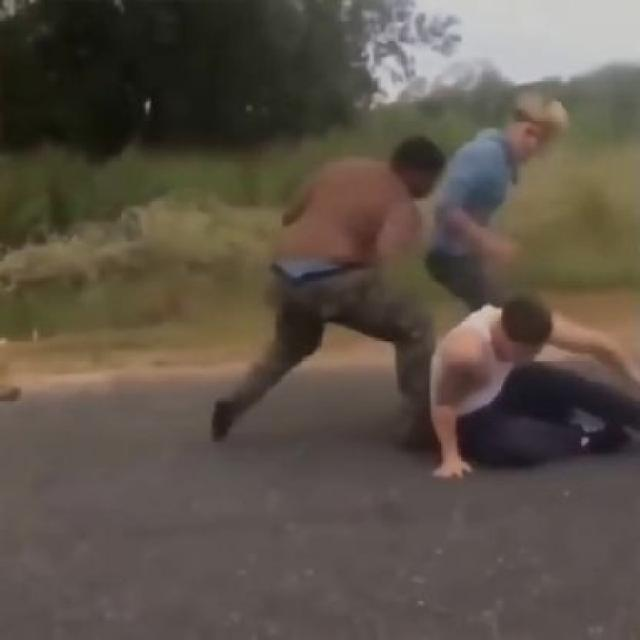fight: (192, 60, 638, 492)
